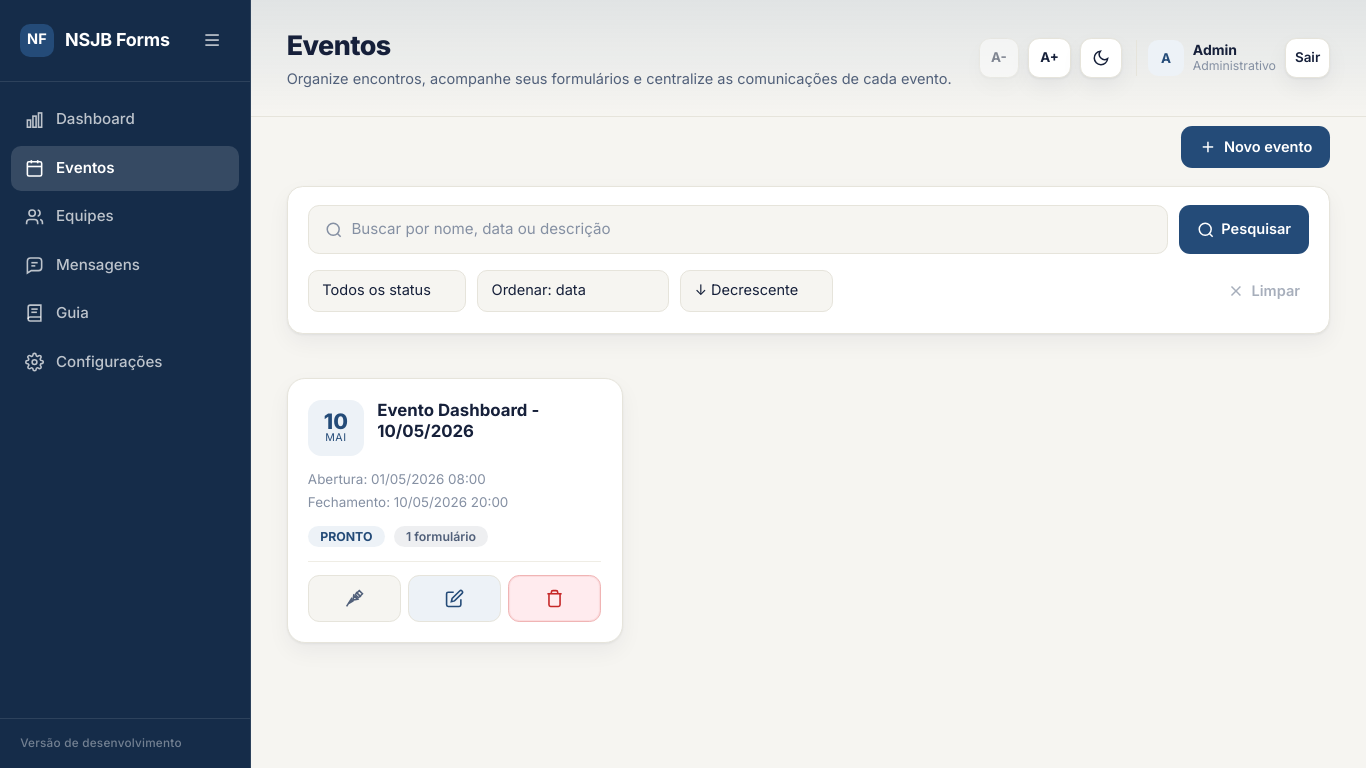
Scenario: App dashboard flow › abre eventos como fluxo principal apos o bootstrap
What coordinates should you click on to do the following:
click the text "Evento Dashboard - 10/05/2026"
I would click on:
 (458, 420)
Its box is top-left (377, 400), bottom-right (539, 441).
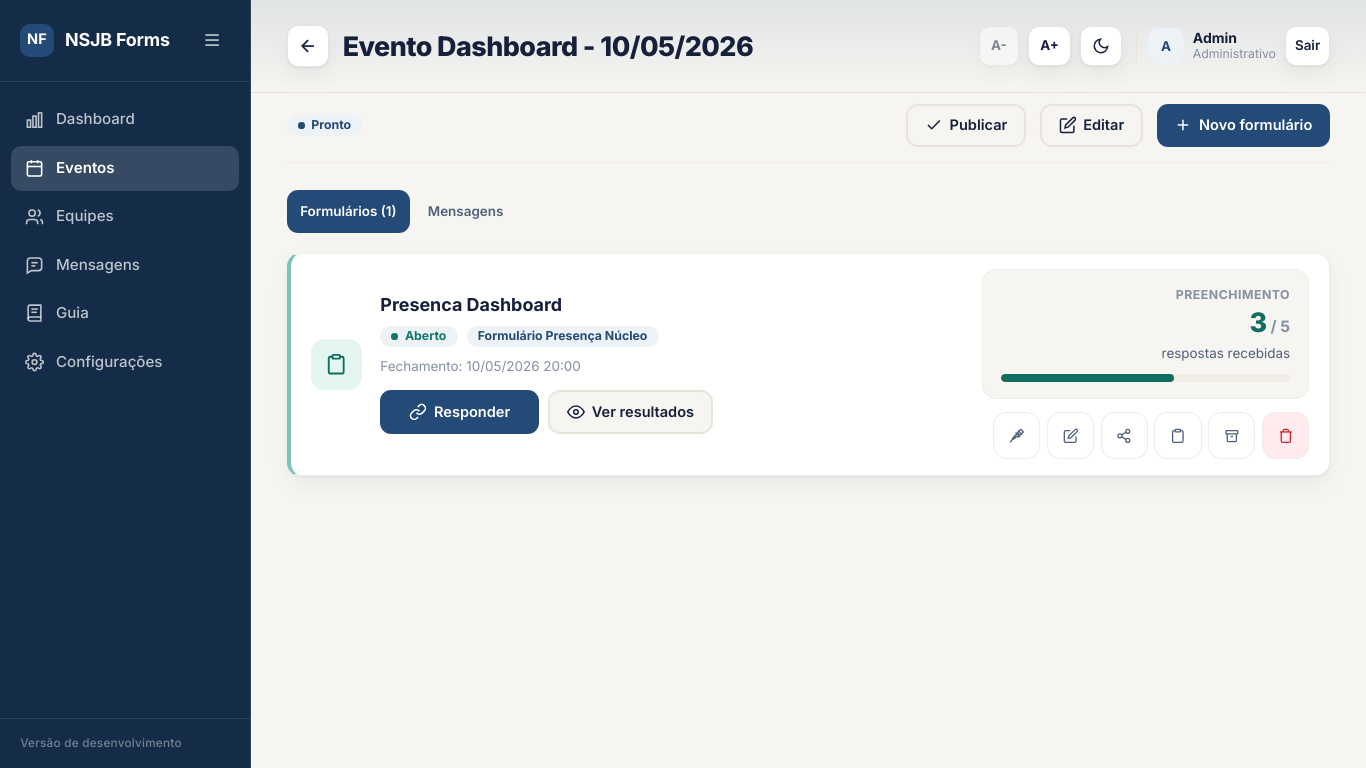
expect the text "Presenca Dashboard" is shown: met, box top-left (380, 294), bottom-right (562, 317)
